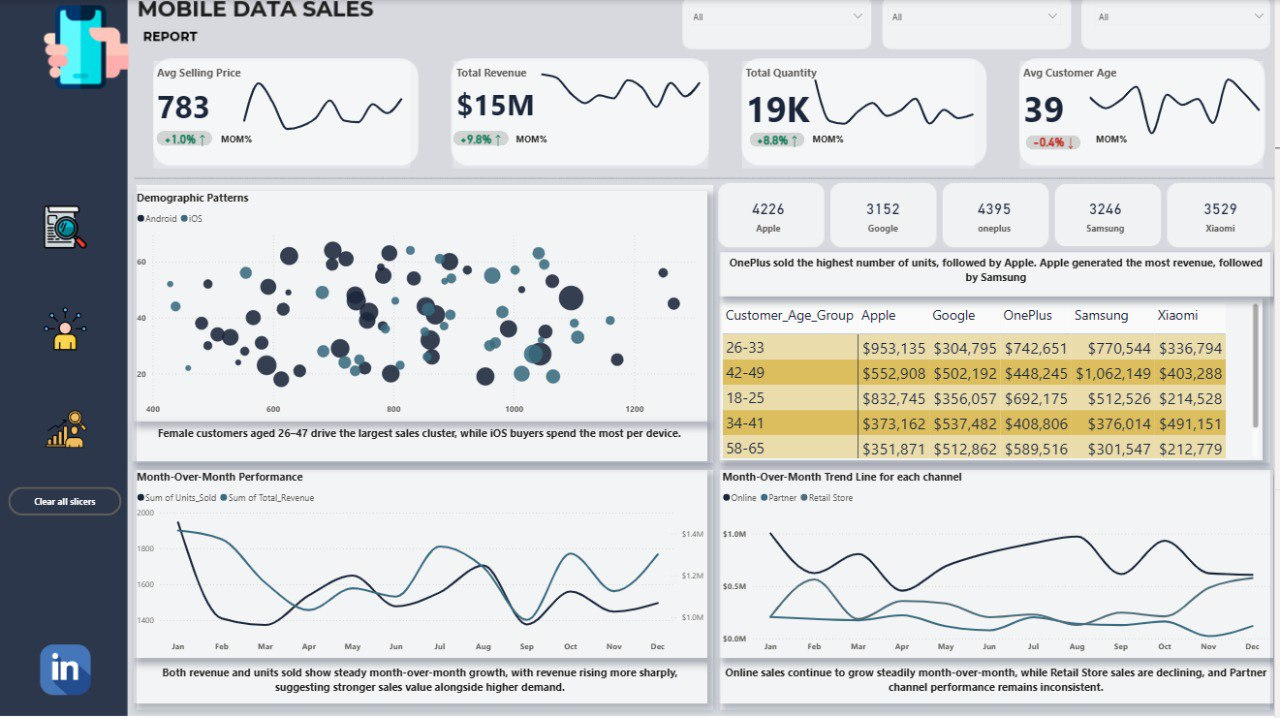

This screenshot's page, from the dashboard's own definition file:
{"tool":"powerbi","page":{"name":"key trends","canvas":[1920,1080],"ordinal":2},"visuals":[{"type":"lineChart","title":"Month-Over-Month Trend Line for each channel","fields":{"Series":["Fact_Sales.Sales_Channel"],"Y":["Dax.Total Revenue"],"Category":["DateTable.Month name"]},"box":[1085.7,706.4,833.6,283.9],"z":0},{"type":"lineChart","title":"Month-Over-Month  Performance","fields":{"Y":["Sum(Fact_Sales.Units_Sold)"],"Y2":["Sum(Fact_Sales.Total_Revenue)"],"Category":["DateTable.Month name"]},"box":[204.4,706.4,863.1,283.9],"z":1000},{"type":"scatterChart","title":"Demographic Patterns","fields":{"Series":["Fact_Sales.Operating_System"],"Size":["Sum(Fact_Sales.Total_Revenue)"],"X":["Dax.Avg  price Of Device"],"Y":["Fact_Sales.Customer_Age"]},"box":[204.4,286.2,863.1,347.5],"z":2000},{"type":"pivotTable","fields":{"Columns":["Fact_Sales.Brand"],"Values":["Sum(Fact_Sales.Total_Revenue)"],"Rows":["Fact_Sales.Customer_Age_Group"]},"box":[1084.6,448.3,817.9,244.9],"z":3000},{"type":"textbox","box":[1085.7,994.8,833.6,63.6],"z":4000},{"type":"textbox","box":[204.4,994.8,863.1,63.6],"z":5000},{"type":"textbox","box":[202.1,633.7,865.4,59.1],"z":6000},{"type":"cardVisual","fields":{"Data":["Dax.Avg  price Of Device"]},"box":[233.9,90.9,386.1,161.3],"z":7000},{"type":"shape","box":[238.5,197.6,84,22.7],"z":8000},{"type":"card","fields":{"Values":["Dax.avg price of device MoM Final"]},"box":[231.8,192.4,98.4,32.8],"z":9000},{"type":"cardVisual","fields":{"Data":["Dax.Total Revenue"]},"box":[683.7,90.9,383.9,161.3],"z":10000},{"type":"cardVisual","fields":{"Data":["Dax.Total unit_sold"]},"box":[1119.8,90.9,349.8,161.3],"z":11000},{"type":"cardVisual","fields":{"Data":["Dax.Avg Customer Age"]},"box":[1537.7,90.9,365.7,161.3],"z":12000},{"type":"shape","box":[683.7,197.6,84,22.7],"z":13000},{"type":"shape","box":[1131.1,199.9,83,22],"z":14000},{"type":"card","fields":{"Values":["Dax.total revenue MoM Final"]},"box":[677.9,192.4,96.2,32.8],"z":15000},{"type":"card","fields":{"Values":["Dax.total unit MoM Final"]},"box":[1124,194.6,96.2,32.8],"z":16000},{"type":"slicer","fields":{"Values":["Fact_Sales.Country"]},"box":[1028.9,0,286.2,68.1],"z":17000},{"type":"slicer","fields":{"Values":["Fact_Sales.Brand"]},"box":[1328.7,0,279.4,68.1],"z":18000},{"type":"card","fields":{"Values":["Dax.Apple"]},"box":[1085.7,277.1,147.6,88.6],"z":19000},{"type":"card","fields":{"Values":["Dax.Google"]},"box":[1260.6,277.1,143.1,88.6],"z":20000},{"type":"card","fields":{"Values":["Dax.oneplus"]},"box":[1424.1,277.1,149.9,88.6],"z":21000},{"type":"card","fields":{"Values":["Dax.Samsung"]},"box":[1592.2,277.1,147.6,88.6],"z":22000},{"type":"card","fields":{"Values":["Dax.Xiaomi"]},"box":[1758,277.1,161.3,88.6],"z":23000},{"type":"textbox","box":[1085.7,379.3,833.6,68.1],"z":24000},{"type":"lineChart","fields":{"Y":["Dax.Avg Customer Age"],"Category":["DateTable.Month name"]},"box":[1628.5,90.9,281.6,134],"z":25000},{"type":"lineChart","fields":{"Y":["Dax.Total unit_sold"],"Category":["DateTable.Month name"]},"box":[1215.1,99.9,263.5,111.3],"z":26000},{"type":"lineChart","fields":{"Y":["Dax.Total Revenue"],"Category":["DateTable.Month name"]},"box":[804,77.2,263.5,111.3],"z":27000},{"type":"lineChart","fields":{"Y":["Dax.Avg  price Of Device"],"Category":["DateTable.Month name"]},"box":[356.6,104.5,263.5,111.3],"z":28000},{"type":"textbox","box":[329.3,195.3,75,40.9],"z":29000},{"type":"textbox","box":[774.5,195.3,70.4,40.9],"z":30000},{"type":"textbox","box":[1219.7,195.3,75,40.9],"z":31000},{"type":"textbox","box":[1646.7,195.3,75,40.9],"z":32000},{"type":"image","box":[46.3,963.9,111.3,86.3],"z":33000},{"type":"actionButton","box":[15.9,733.6,170.3,43.2],"z":34000},{"type":"image","box":[47.7,608.7,109,75],"z":35000},{"type":"image","box":[63.6,447.4,75,93.1],"z":36000},{"type":"image","box":[63.6,304.4,75,75],"z":37000},{"type":"shape","box":[1546.1,203.4,83.1,21.9],"z":38000},{"type":"card","fields":{"Values":["Dax.avg customer MoM Final"]},"box":[1539.5,196.8,96.2,32.8],"z":39000},{"type":"slicer","fields":{"Values":["DateTable.Month name"]},"box":[1640.1,0,279.9,67.8],"z":40000}]}

Visuals, with their boxes on the page's 1920x1080 design canvas (x1, y1, x2, y2). These are canvas units, not pixel positions in the 1280x718 screenshot, which may show the page scaled, cropped or inside an application window:
"Month-Over-Month Trend Line for each channel" lineChart: BBox(1086, 706, 1919, 990)
"Month-Over-Month  Performance" lineChart: BBox(204, 706, 1068, 990)
"Demographic Patterns" scatterChart: BBox(204, 286, 1068, 634)
pivotTable - Fact_Sales.Brand x Sum(Fact_Sales.Total_Revenue): BBox(1085, 448, 1902, 693)
textbox: BBox(1086, 995, 1919, 1058)
textbox: BBox(204, 995, 1068, 1058)
textbox: BBox(202, 634, 1068, 693)
cardVisual - Dax.Avg  price Of Device: BBox(234, 91, 620, 252)
shape: BBox(238, 198, 322, 220)
card - Dax.avg price of device MoM Final: BBox(232, 192, 330, 225)
cardVisual - Dax.Total Revenue: BBox(684, 91, 1068, 252)
cardVisual - Dax.Total unit_sold: BBox(1120, 91, 1470, 252)
cardVisual - Dax.Avg Customer Age: BBox(1538, 91, 1903, 252)
shape: BBox(684, 198, 768, 220)
shape: BBox(1131, 200, 1214, 222)
card - Dax.total revenue MoM Final: BBox(678, 192, 774, 225)
card - Dax.total unit MoM Final: BBox(1124, 195, 1220, 227)
slicer - Fact_Sales.Country: BBox(1029, 0, 1315, 68)
slicer - Fact_Sales.Brand: BBox(1329, 0, 1608, 68)
card - Dax.Apple: BBox(1086, 277, 1233, 366)
card - Dax.Google: BBox(1261, 277, 1404, 366)
card - Dax.oneplus: BBox(1424, 277, 1574, 366)
card - Dax.Samsung: BBox(1592, 277, 1740, 366)
card - Dax.Xiaomi: BBox(1758, 277, 1919, 366)
textbox: BBox(1086, 379, 1919, 447)
lineChart - Dax.Avg Customer Age x DateTable.Month name: BBox(1628, 91, 1910, 225)
lineChart - Dax.Total unit_sold x DateTable.Month name: BBox(1215, 100, 1479, 211)
lineChart - Dax.Total Revenue x DateTable.Month name: BBox(804, 77, 1068, 188)
lineChart - Dax.Avg  price Of Device x DateTable.Month name: BBox(357, 104, 620, 216)
textbox: BBox(329, 195, 404, 236)
textbox: BBox(774, 195, 845, 236)
textbox: BBox(1220, 195, 1295, 236)
textbox: BBox(1647, 195, 1722, 236)
image: BBox(46, 964, 158, 1050)
actionButton: BBox(16, 734, 186, 777)
image: BBox(48, 609, 157, 684)
image: BBox(64, 447, 139, 540)
image: BBox(64, 304, 139, 379)
shape: BBox(1546, 203, 1629, 225)
card - Dax.avg customer MoM Final: BBox(1540, 197, 1636, 230)
slicer - DateTable.Month name: BBox(1640, 0, 1920, 68)
